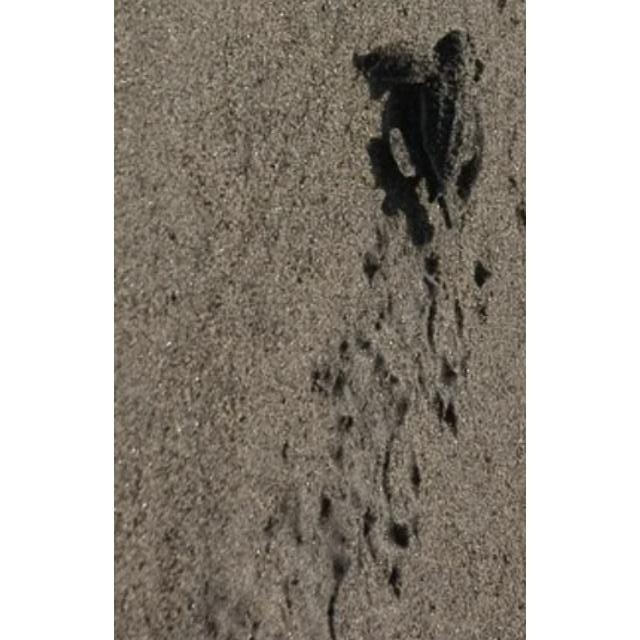turtle: (360, 28, 489, 199)
